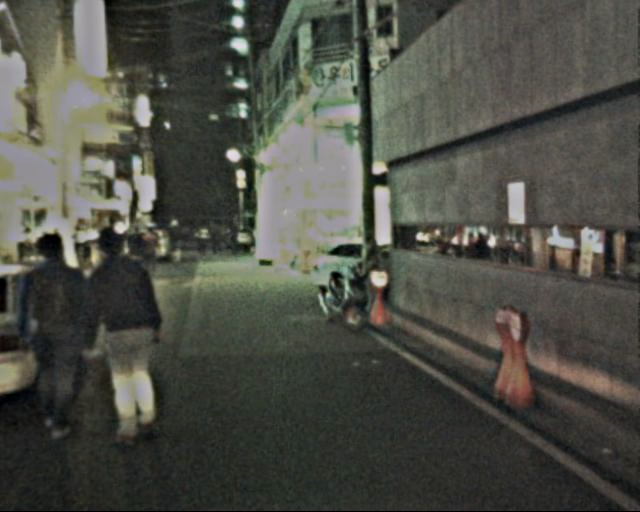person: (12, 225, 114, 441), (77, 223, 176, 445), (136, 221, 161, 280), (197, 221, 238, 254), (167, 219, 185, 264)
